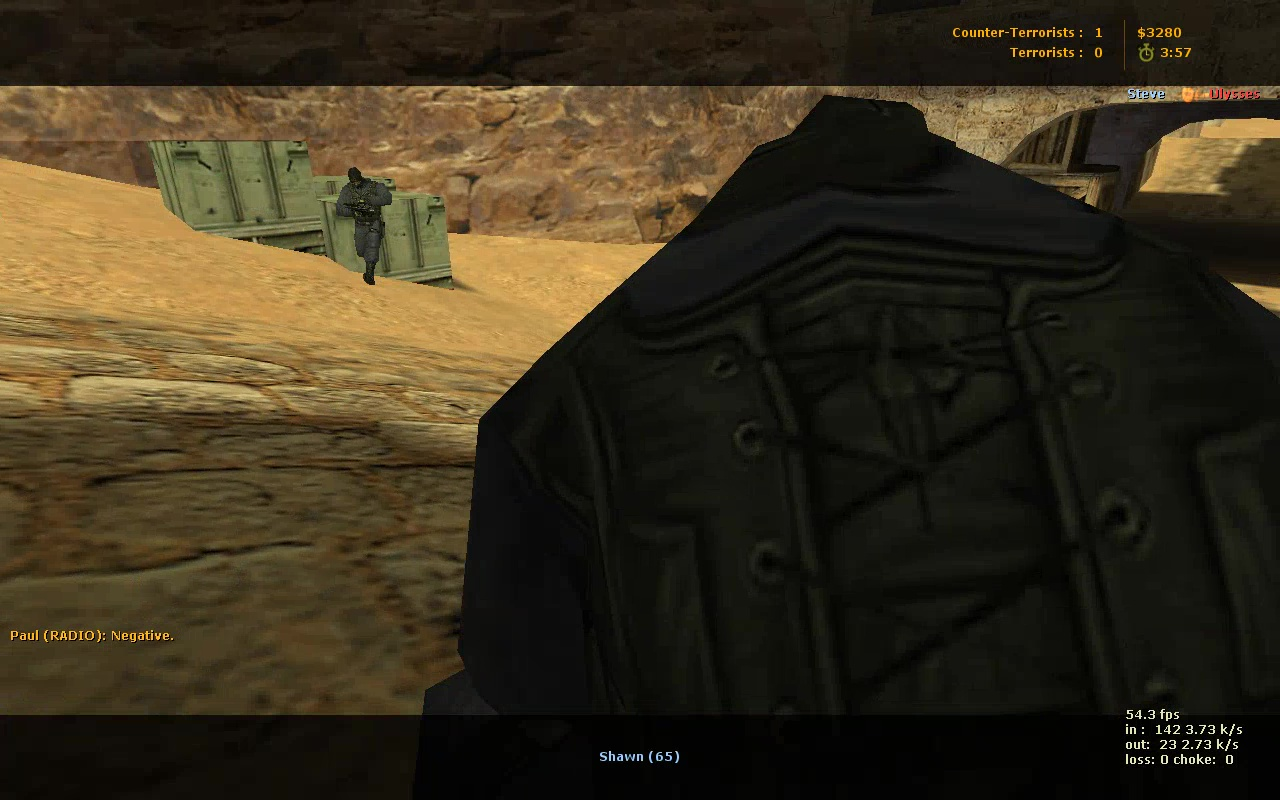ct: (328, 163, 400, 287)
